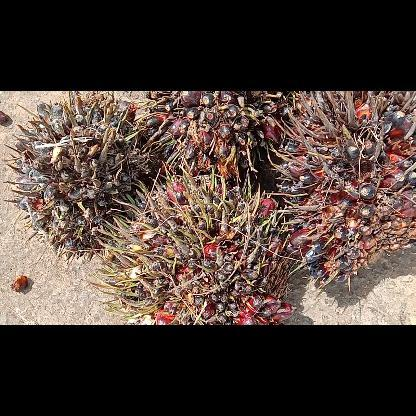TBS abnormal: (92, 176, 298, 324), (278, 91, 414, 287), (14, 92, 150, 254), (138, 91, 304, 181)
